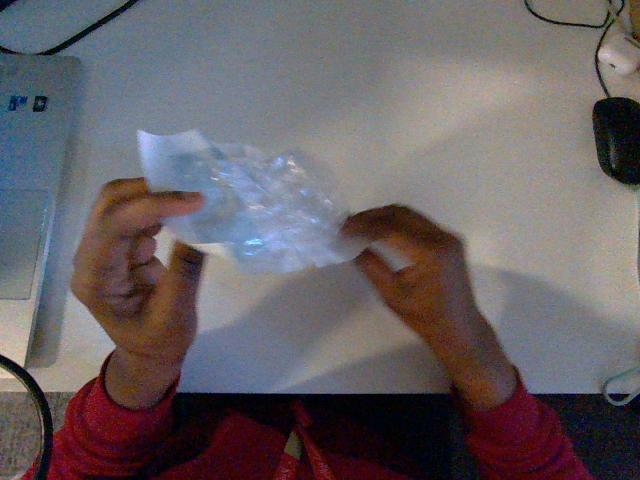gallipot: (138, 131, 359, 272)
